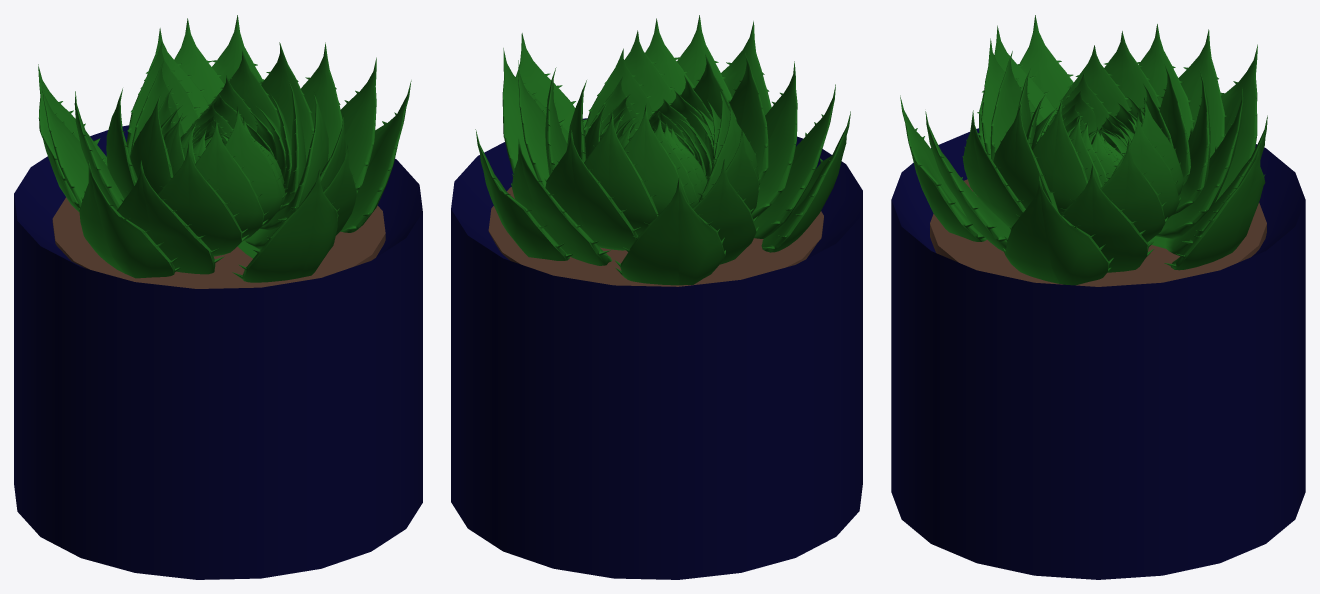
File: POttedPlantv1.fbx
3 views of the same model, side by side, from view 1: azimuth 30°, elevation 25°; view 2: azimuth 150°, elevation 25°; view 3: azimuth 270°, elevation 25° (orthographic).
Parts seen in each view (by area): view 1: pCylinder3; view 2: pCylinder3; view 3: pCylinder3.
Boxes of the visible parts, left/top/right/bottom form: pCylinder3: left=14, top=15, right=422, bottom=579; pCylinder3: left=451, top=15, right=862, bottom=579; pCylinder3: left=891, top=15, right=1305, bottom=579.
Size of the model in its own units: 6.46 by 7.24 by 6.46.
